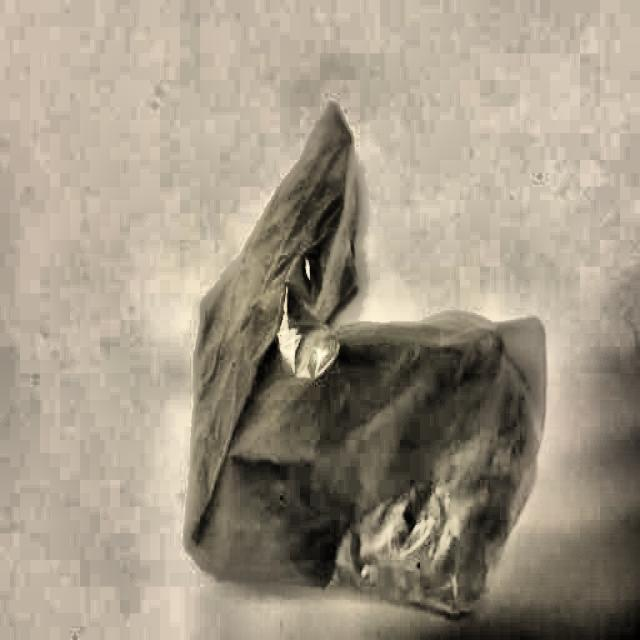trash: (192, 105, 478, 558)
